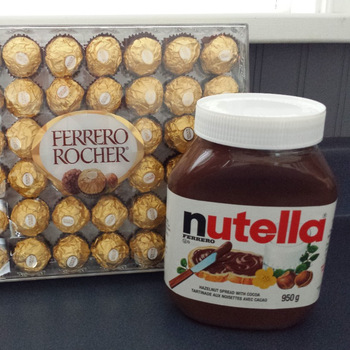nutella: (164, 91, 339, 332)
